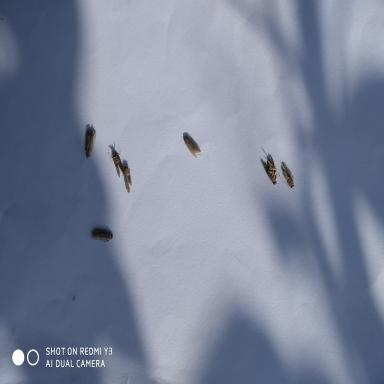pbw: (257, 154, 282, 190), (274, 155, 297, 191), (106, 144, 127, 179), (181, 132, 204, 160), (88, 224, 116, 246), (118, 162, 134, 197), (82, 128, 98, 160)
